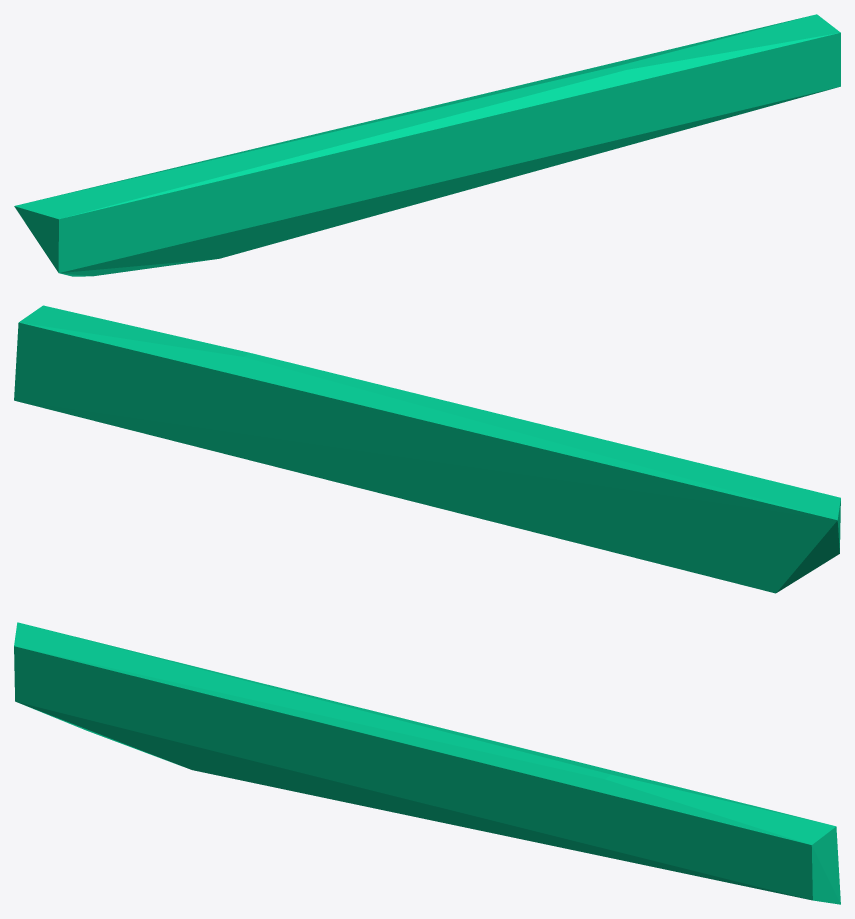
The model's file is waste_bin_convex_piece_006.obj.
3 views of the same model, one above another, from view 1: azimuth 30°, elevation 25°; view 2: azimuth 150°, elevation 25°; view 3: azimuth 330°, elevation 25° (orthographic). The views are drawn at different scales.
Bounding box in the file's own units: 0.3196 × 0.0346 × 0.0177.
